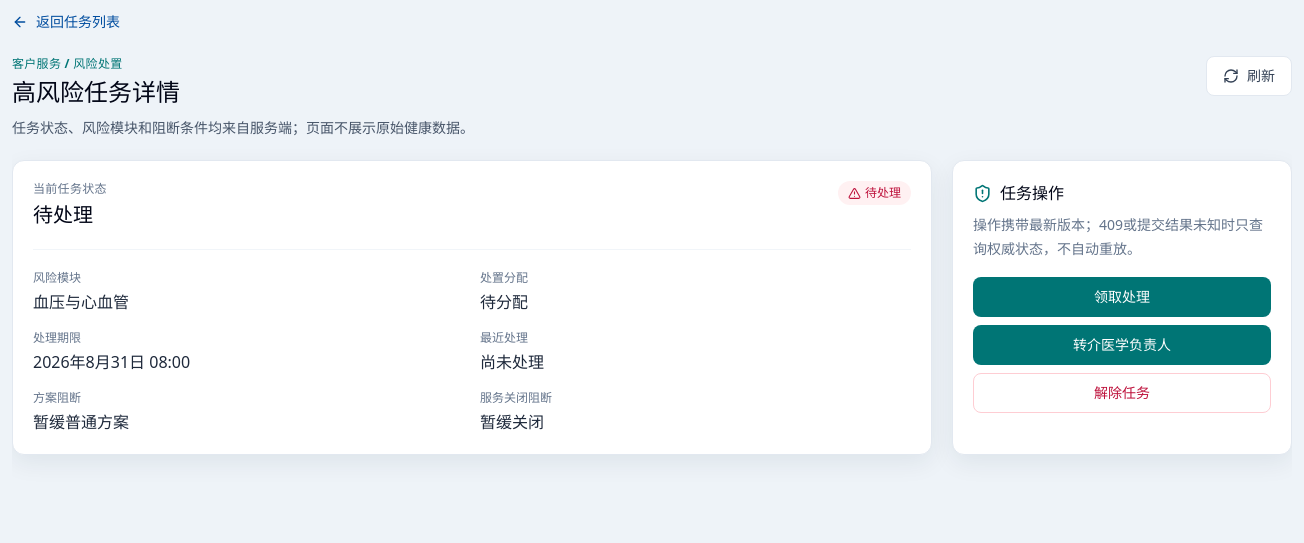
Test: 一期切片5机构评估摘要与高风险任务 › org_operator可执行正式任务Action且409后只刷新不自动重放
Click the button "领取处理" at coordinates (1122, 297), box [973, 277, 1271, 317]
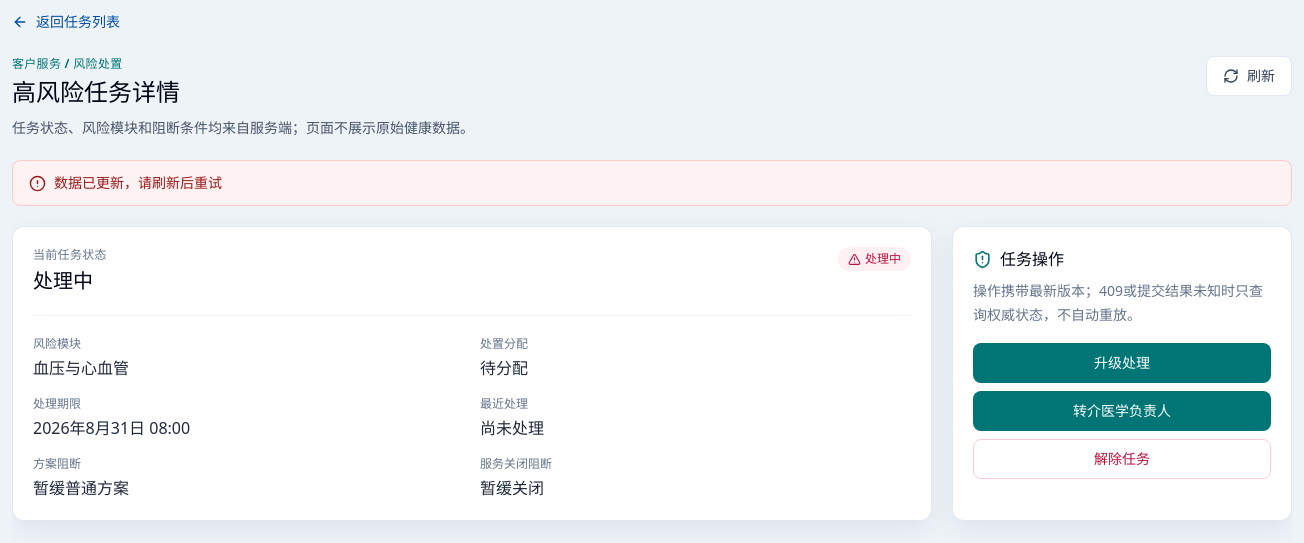
Expected: the heading "处理中" is shown, [33, 267, 93, 294]
Expected: the message shows "数据已更新", [54, 173, 222, 192]
